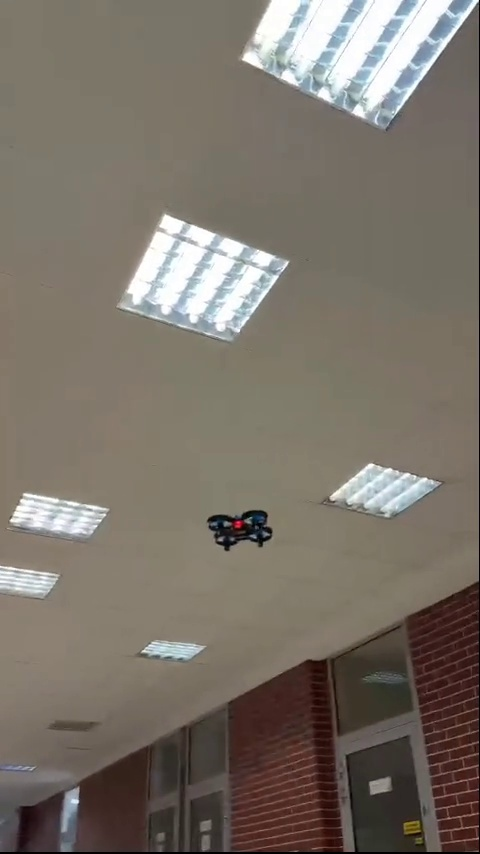drone: (207, 508, 274, 553)
